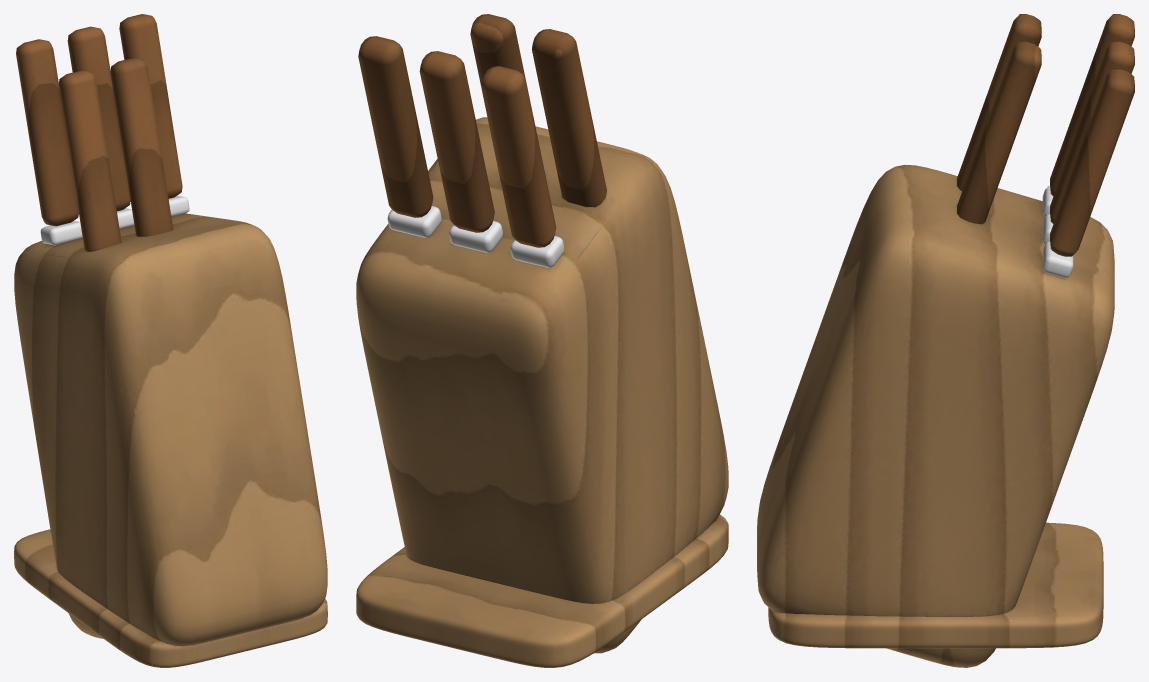
The model's file is oak-wood-handles.glb.
The picture shows the model from 3 angles, left to right: view 1: azimuth 30°, elevation 25°; view 2: azimuth 150°, elevation 25°; view 3: azimuth 270°, elevation 25°; orthographic projection. The views are drawn at different scales.
Visible parts, largest first — view 1: wood_z, wood_handle, chrome; view 2: wood_z, wood_handle, chrome; view 3: wood_z, wood_handle, chrome.
Part boxes in pixels (box(x1,y1,x2,y2)): wood_z: box(14, 213, 327, 667); wood_handle: box(16, 14, 182, 251); chrome: box(40, 195, 189, 245); wood_z: box(356, 117, 728, 667); wood_handle: box(358, 14, 606, 247); chrome: box(387, 206, 564, 267); wood_z: box(757, 165, 1114, 667); wood_handle: box(957, 14, 1134, 256); chrome: box(1042, 186, 1073, 277).
Size of the model in its own units: 0.13 by 0.3485 by 0.2028.
3 materials, 2 textured.
